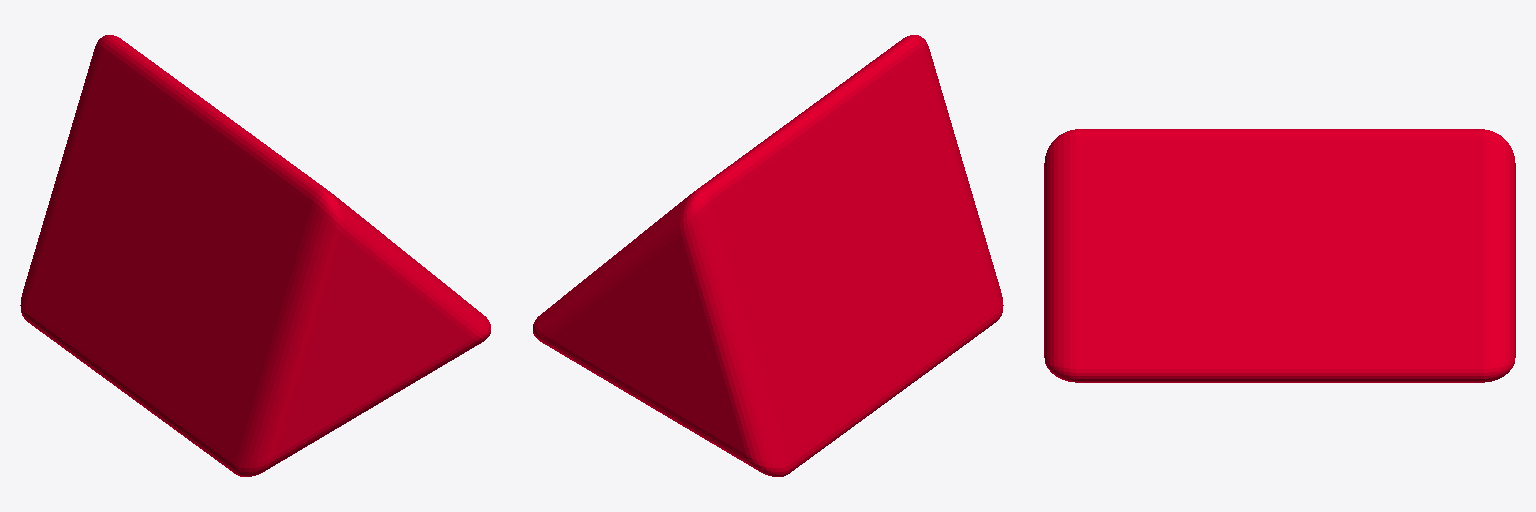
The robot description file, URDF, robot "triangular_prism.urdf":
<?xml version="1.0" ?>
<robot name="triangular_prism.urdf">

  <link name="triangular_prism">
    <contact>
    	<friction_anchor/>
    	   <lateral_friction value="1.0"/>
    </contact>
    <inertial>
      <origin rpy="0 0 0" xyz="0 0 0"/>
       <mass value=".1"/>
       <inertia ixx="1" ixy="0" ixz="0" iyy="1" iyz="0" izz="1"/>
    </inertial>
    <visual>
      <origin rpy="0 0 0" xyz="0 0 0"/>
      <geometry>
				<mesh filename="triangular_prism_rounded.obj" scale="1.0 1.0 1.0"/>
      </geometry>
       <material name="red">
        <color rgba="0.9 0 0.2 1.0"/>
      </material>
    </visual>
    <collision>
      <origin rpy="0 0 0" xyz="0 0 0"/>
      <geometry>
				<mesh filename="triangular_prism_rounded.obj" scale="1.0 1.0 1.0"/>
      </geometry>
    </collision>
  </link>


</robot>

--- What the picture shows (computed from the rendered views, not written in the file) ---
The picture shows the robot from 3 angles, left to right: view 1: azimuth 30°, elevation 25°; view 2: azimuth 150°, elevation 25°; view 3: azimuth 270°, elevation 25°; orthographic projection.
Robot: triangular_prism.urdf — 1 links, 0 joints (none); root link triangular_prism; default pose: all joints at 0.
Links seen in each view (by area): view 1: triangular_prism; view 2: triangular_prism; view 3: triangular_prism.
Boxes of the visible links, <box> form: triangular_prism: <box>20,35,490,476</box>; triangular_prism: <box>533,35,1003,476</box>; triangular_prism: <box>1044,129,1515,382</box>.
Bounding box of the posed robot: 0.0755 × 0.125 × 0.0755 m (x, y, z).
1 mesh visuals loaded from 1 distinct referenced files (1 OBJ).